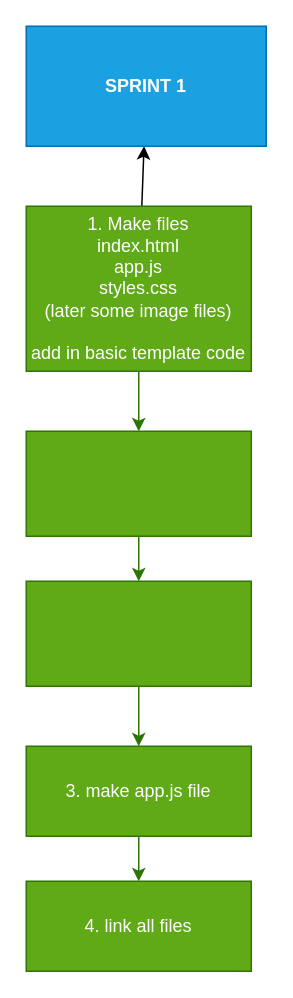
This 293x998 diagram has some shape labels left out. The box of each missing label's shape, as (x1, y1, x2, y2) in pixels:
1. make index.html: (25, 430, 251, 536)
2. make styles. css file: (25, 580, 251, 686)
